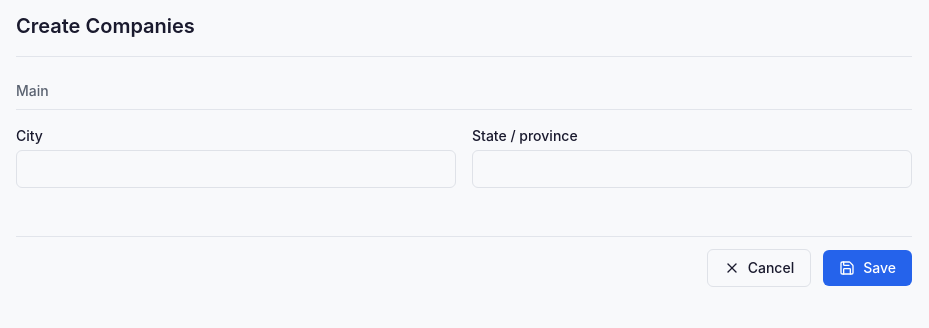
Test: Quiet record form validation › places an invalid contingent choice message beside B even when the parent label is longer
Type "7" into the field labelled "City" at (236,169), box [16,150,456,188]
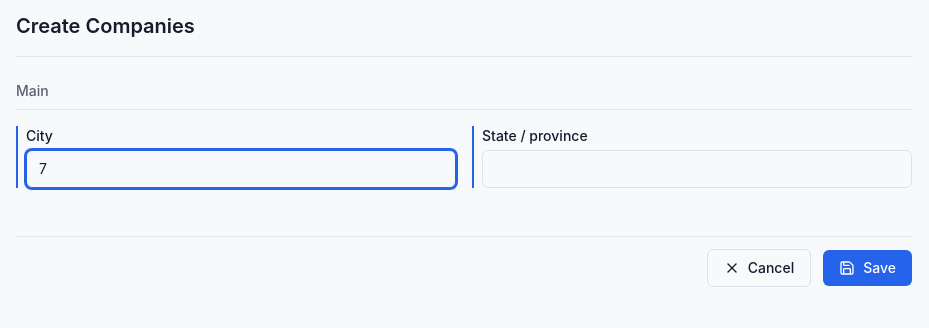
Click the button "Save" at (868,268), box [823,250,912,286]
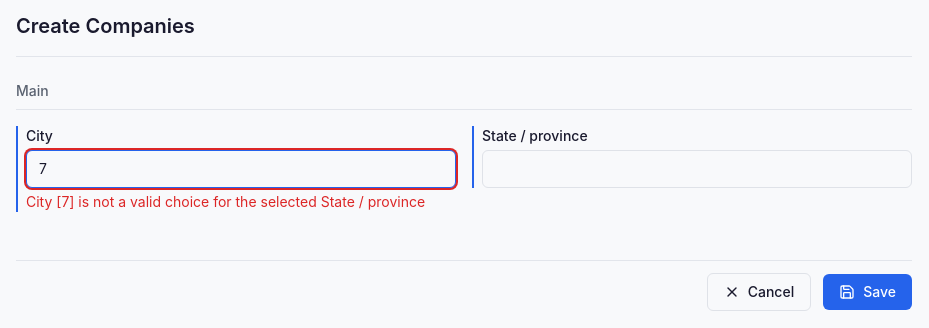
Check: the text "City [7] is not a valid choice for the selected State / province" is shown, box [26,192,425,212]
